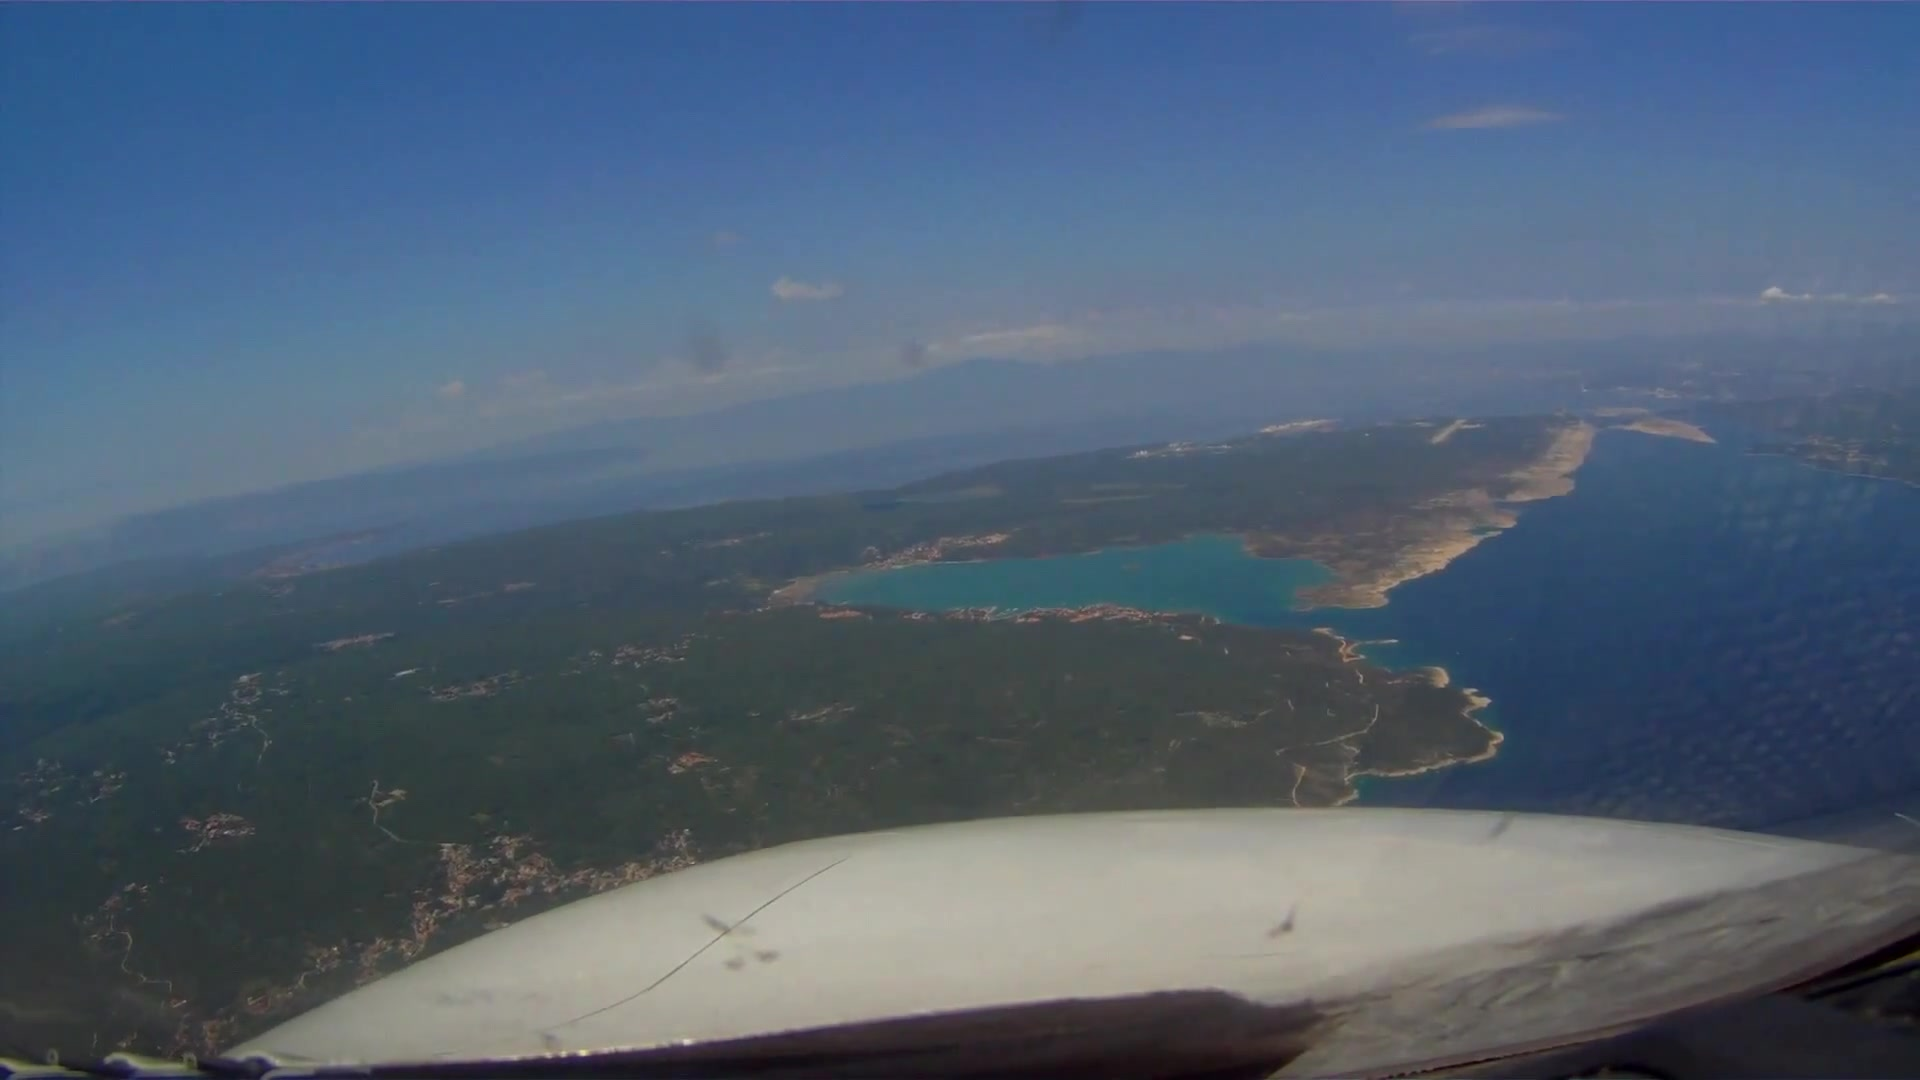runway: (1429, 418, 1466, 444)
